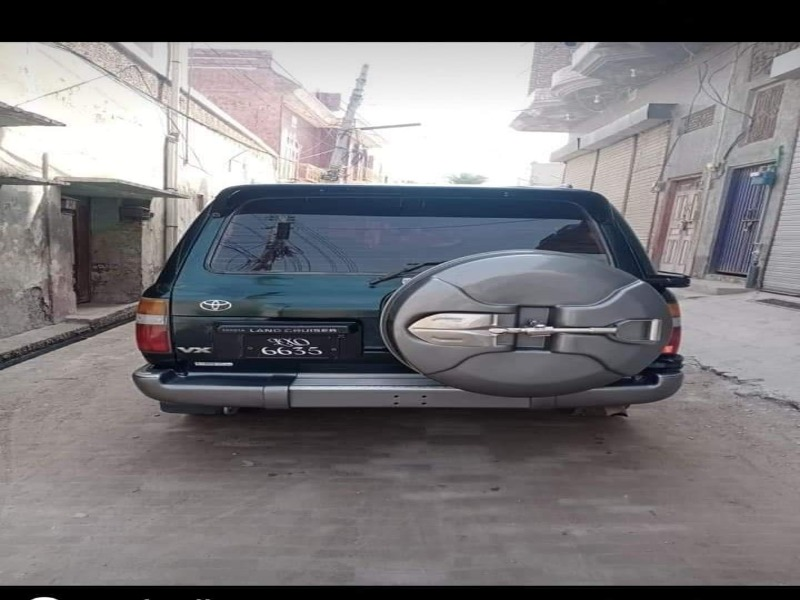License Plate: (215, 323, 369, 367)
